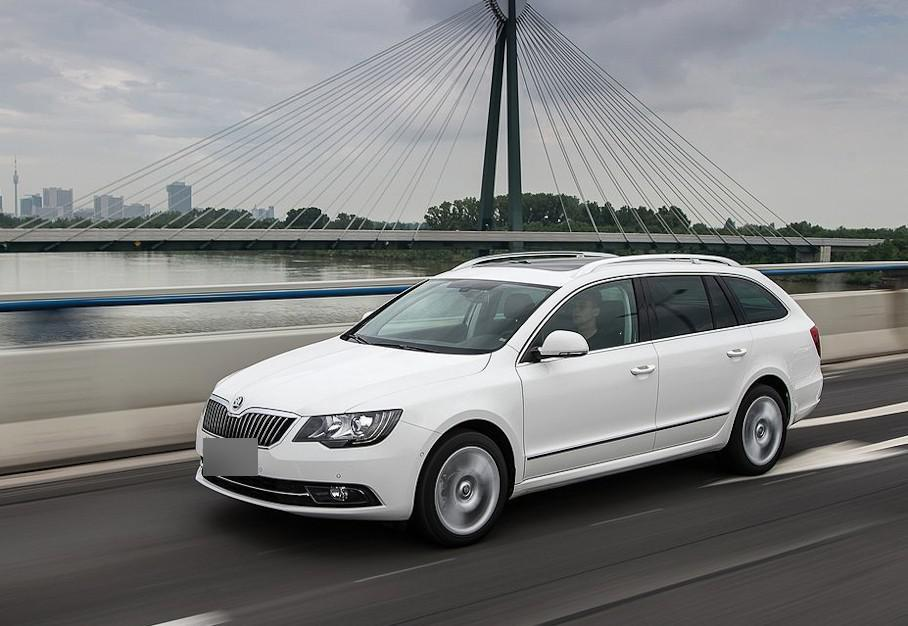Wagon: (196, 249, 824, 547)
